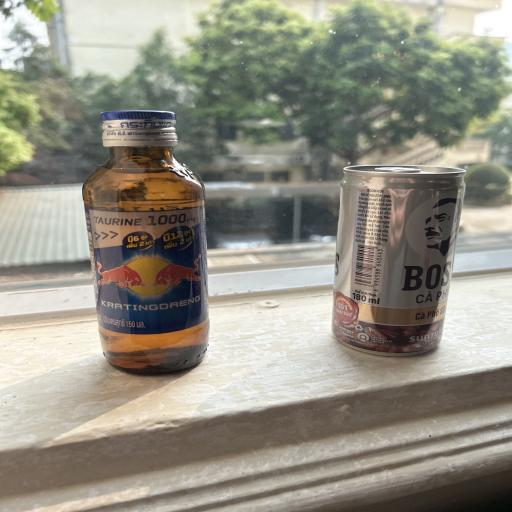bo_huc: (78, 108, 213, 374)
boss_coffee: (332, 160, 464, 360)
